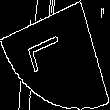L_E: (32, 31, 78, 79)
